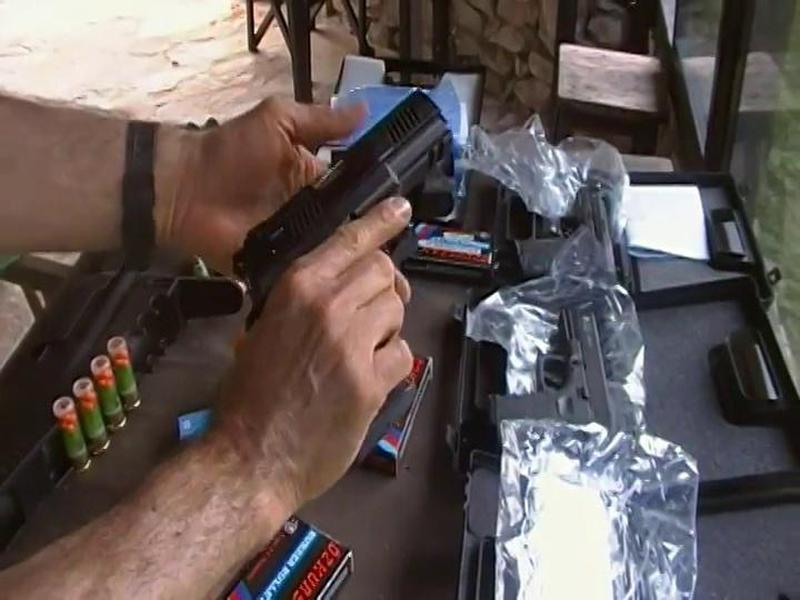Pistola: (227, 82, 460, 323)
